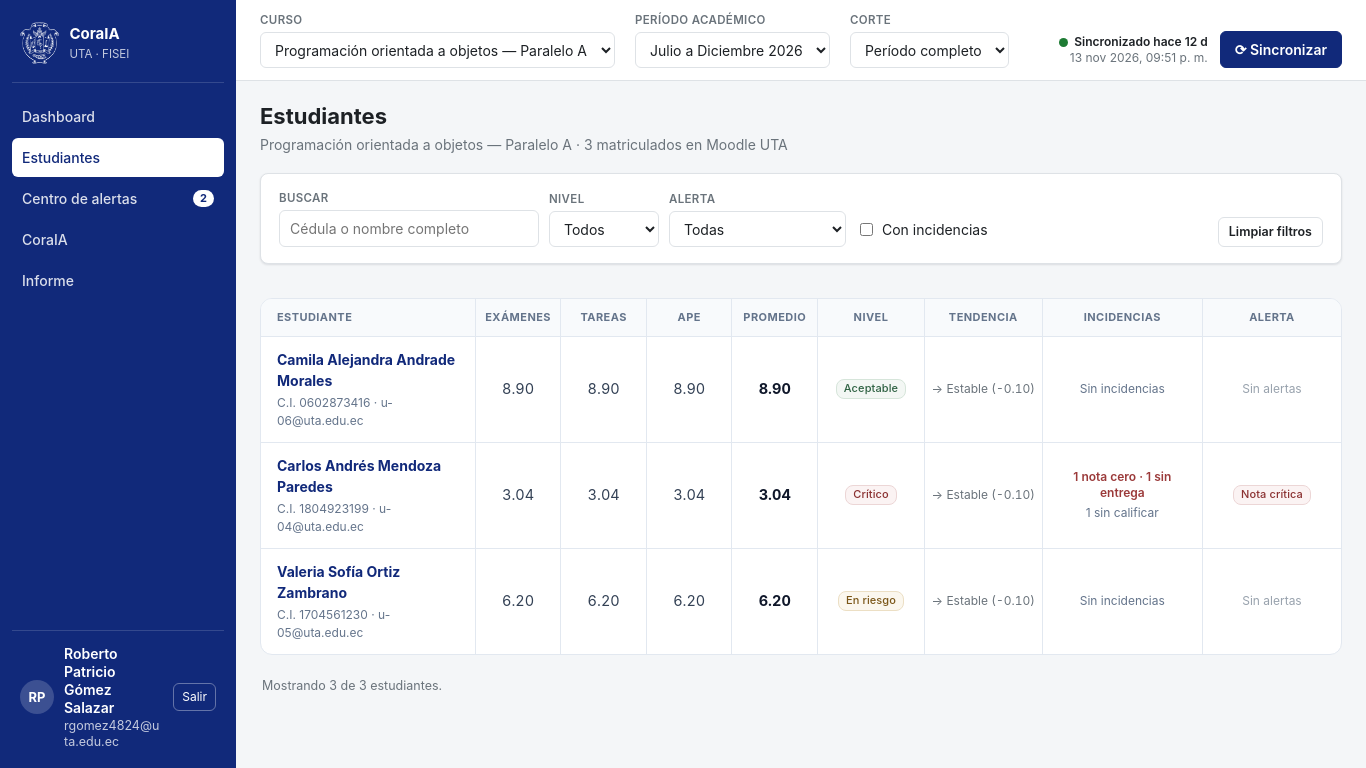
Test: Buscador por cédula y nombre completo › filtra en tiempo real por cédula (completa o parcial) y por nombre completo, mostrando cédula y correo
This screenshot has width=1366, height=768.
expect the link "Carlos Andrés Mendoza Paredes" is shown: met, box 277,454 -> 467,496
expect the text "Carlos Andrés Mendoza Paredes" shows "C.I. 1804923199 · u-04@uta.edu.ec": met, box 261,442 -> 1341,548
Step 1. Type "1804923199" into the search field with placeholder "Cédula o nombre completo" → (409, 228), box 279,210 -> 539,247
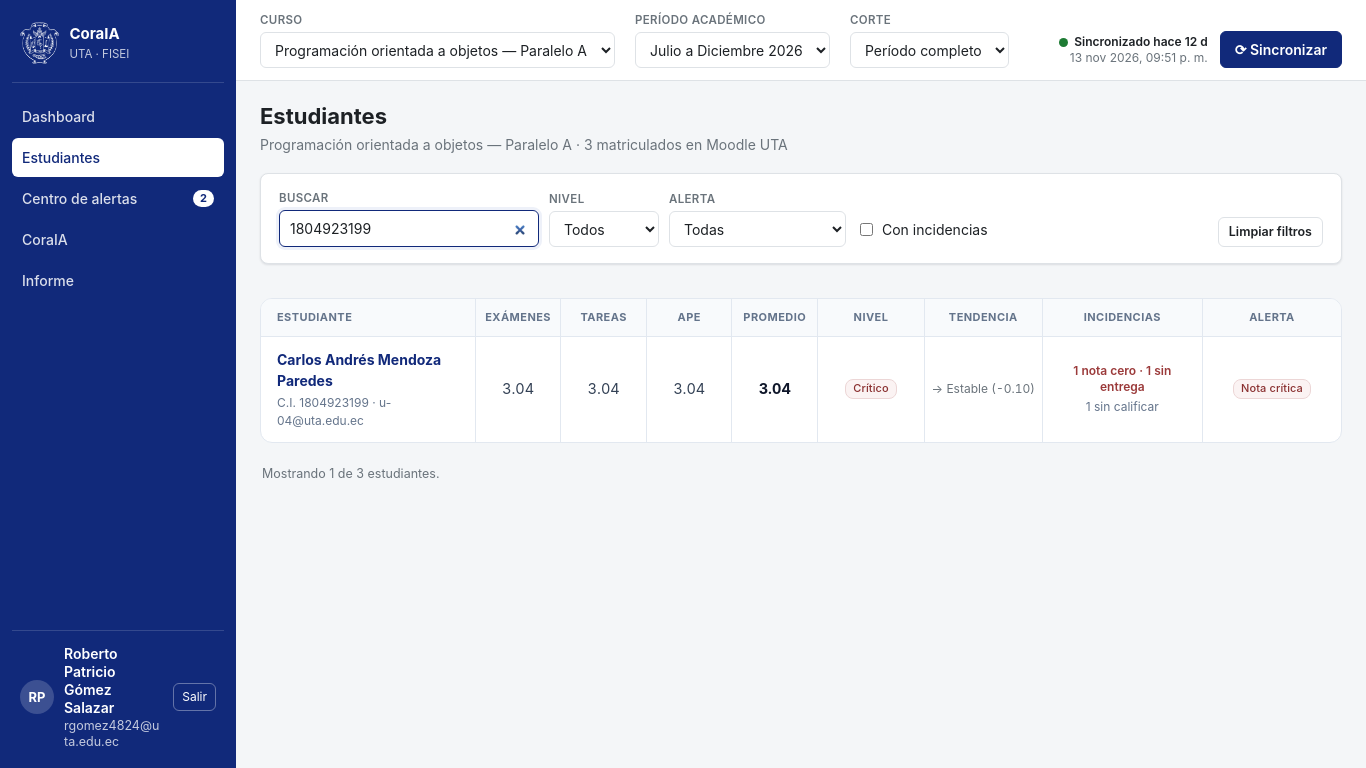
expect the link "Carlos Andrés Mendoza Paredes" is shown: met, box 277,348 -> 467,390
expect the link "Valeria Sofía Ortiz Zambrano" is gone: met
Step 2. Replace the text in the search field with placeholder "Cédula o nombre completo" with "17045" → (409, 228), box 279,210 -> 539,247
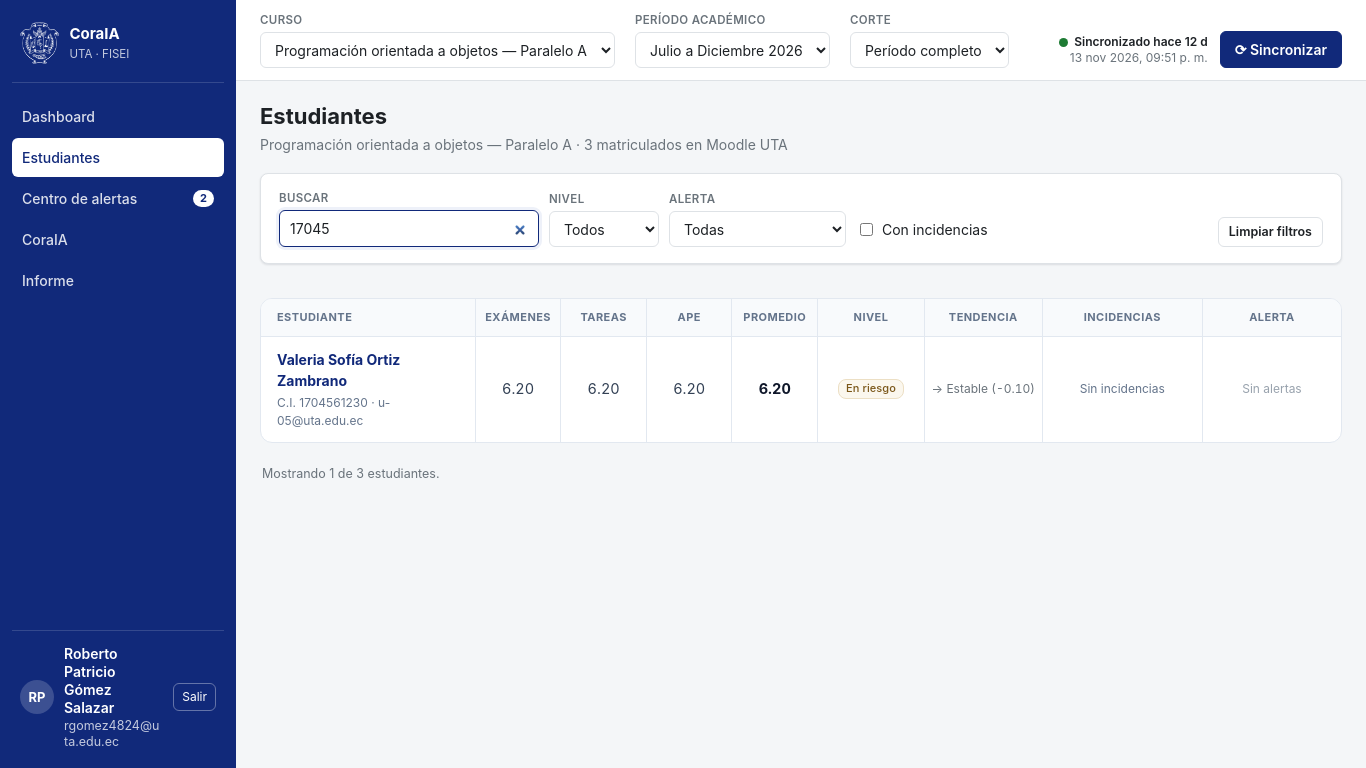
expect the link "Carlos Andrés Mendoza Paredes" is not shown: met
expect the link "Valeria Sofía Ortiz Zambrano" is shown: met, box 277,350 -> 400,388
Step 3. Replace the text in the search field with placeholder "Cédula o nombre completo" with "camila andrade" → (409, 228), box 279,210 -> 539,247
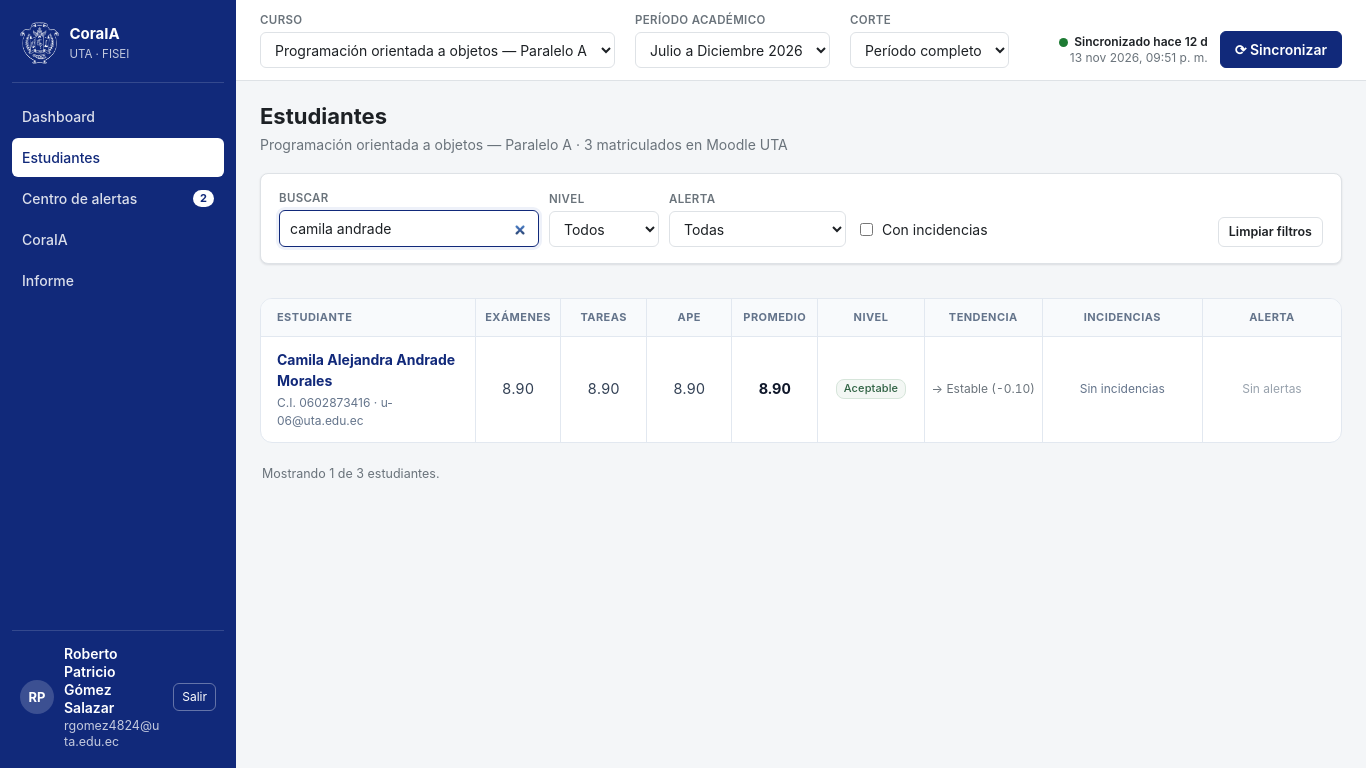
expect the link "Camila Alejandra Andrade Morales" is shown: met, box 277,348 -> 467,390
expect the number of elements with test id "datos-estudiante" is 1: met, box 277,394 -> 393,428
// Mientras se escribe: inicio de cada palabra de los dos nombres y dos apellidos
Step 4. Replace the text in the search field with placeholder "Cédula o nombre completo" with "mendoza par" → (409, 228), box 279,210 -> 539,247
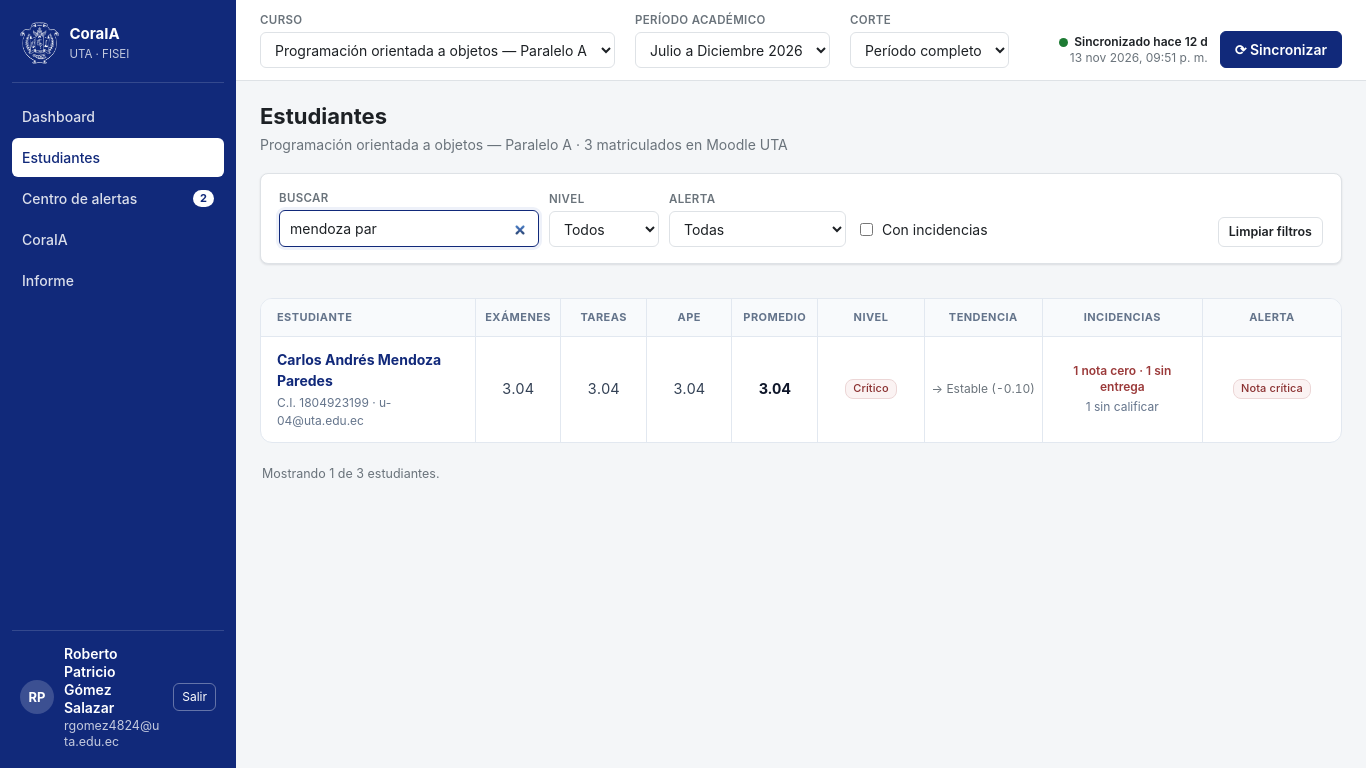
expect the link "Carlos Andrés Mendoza Paredes" is shown: met, box 277,348 -> 467,390
expect the number of elements with test id "datos-estudiante" is 1: met, box 277,394 -> 391,428
